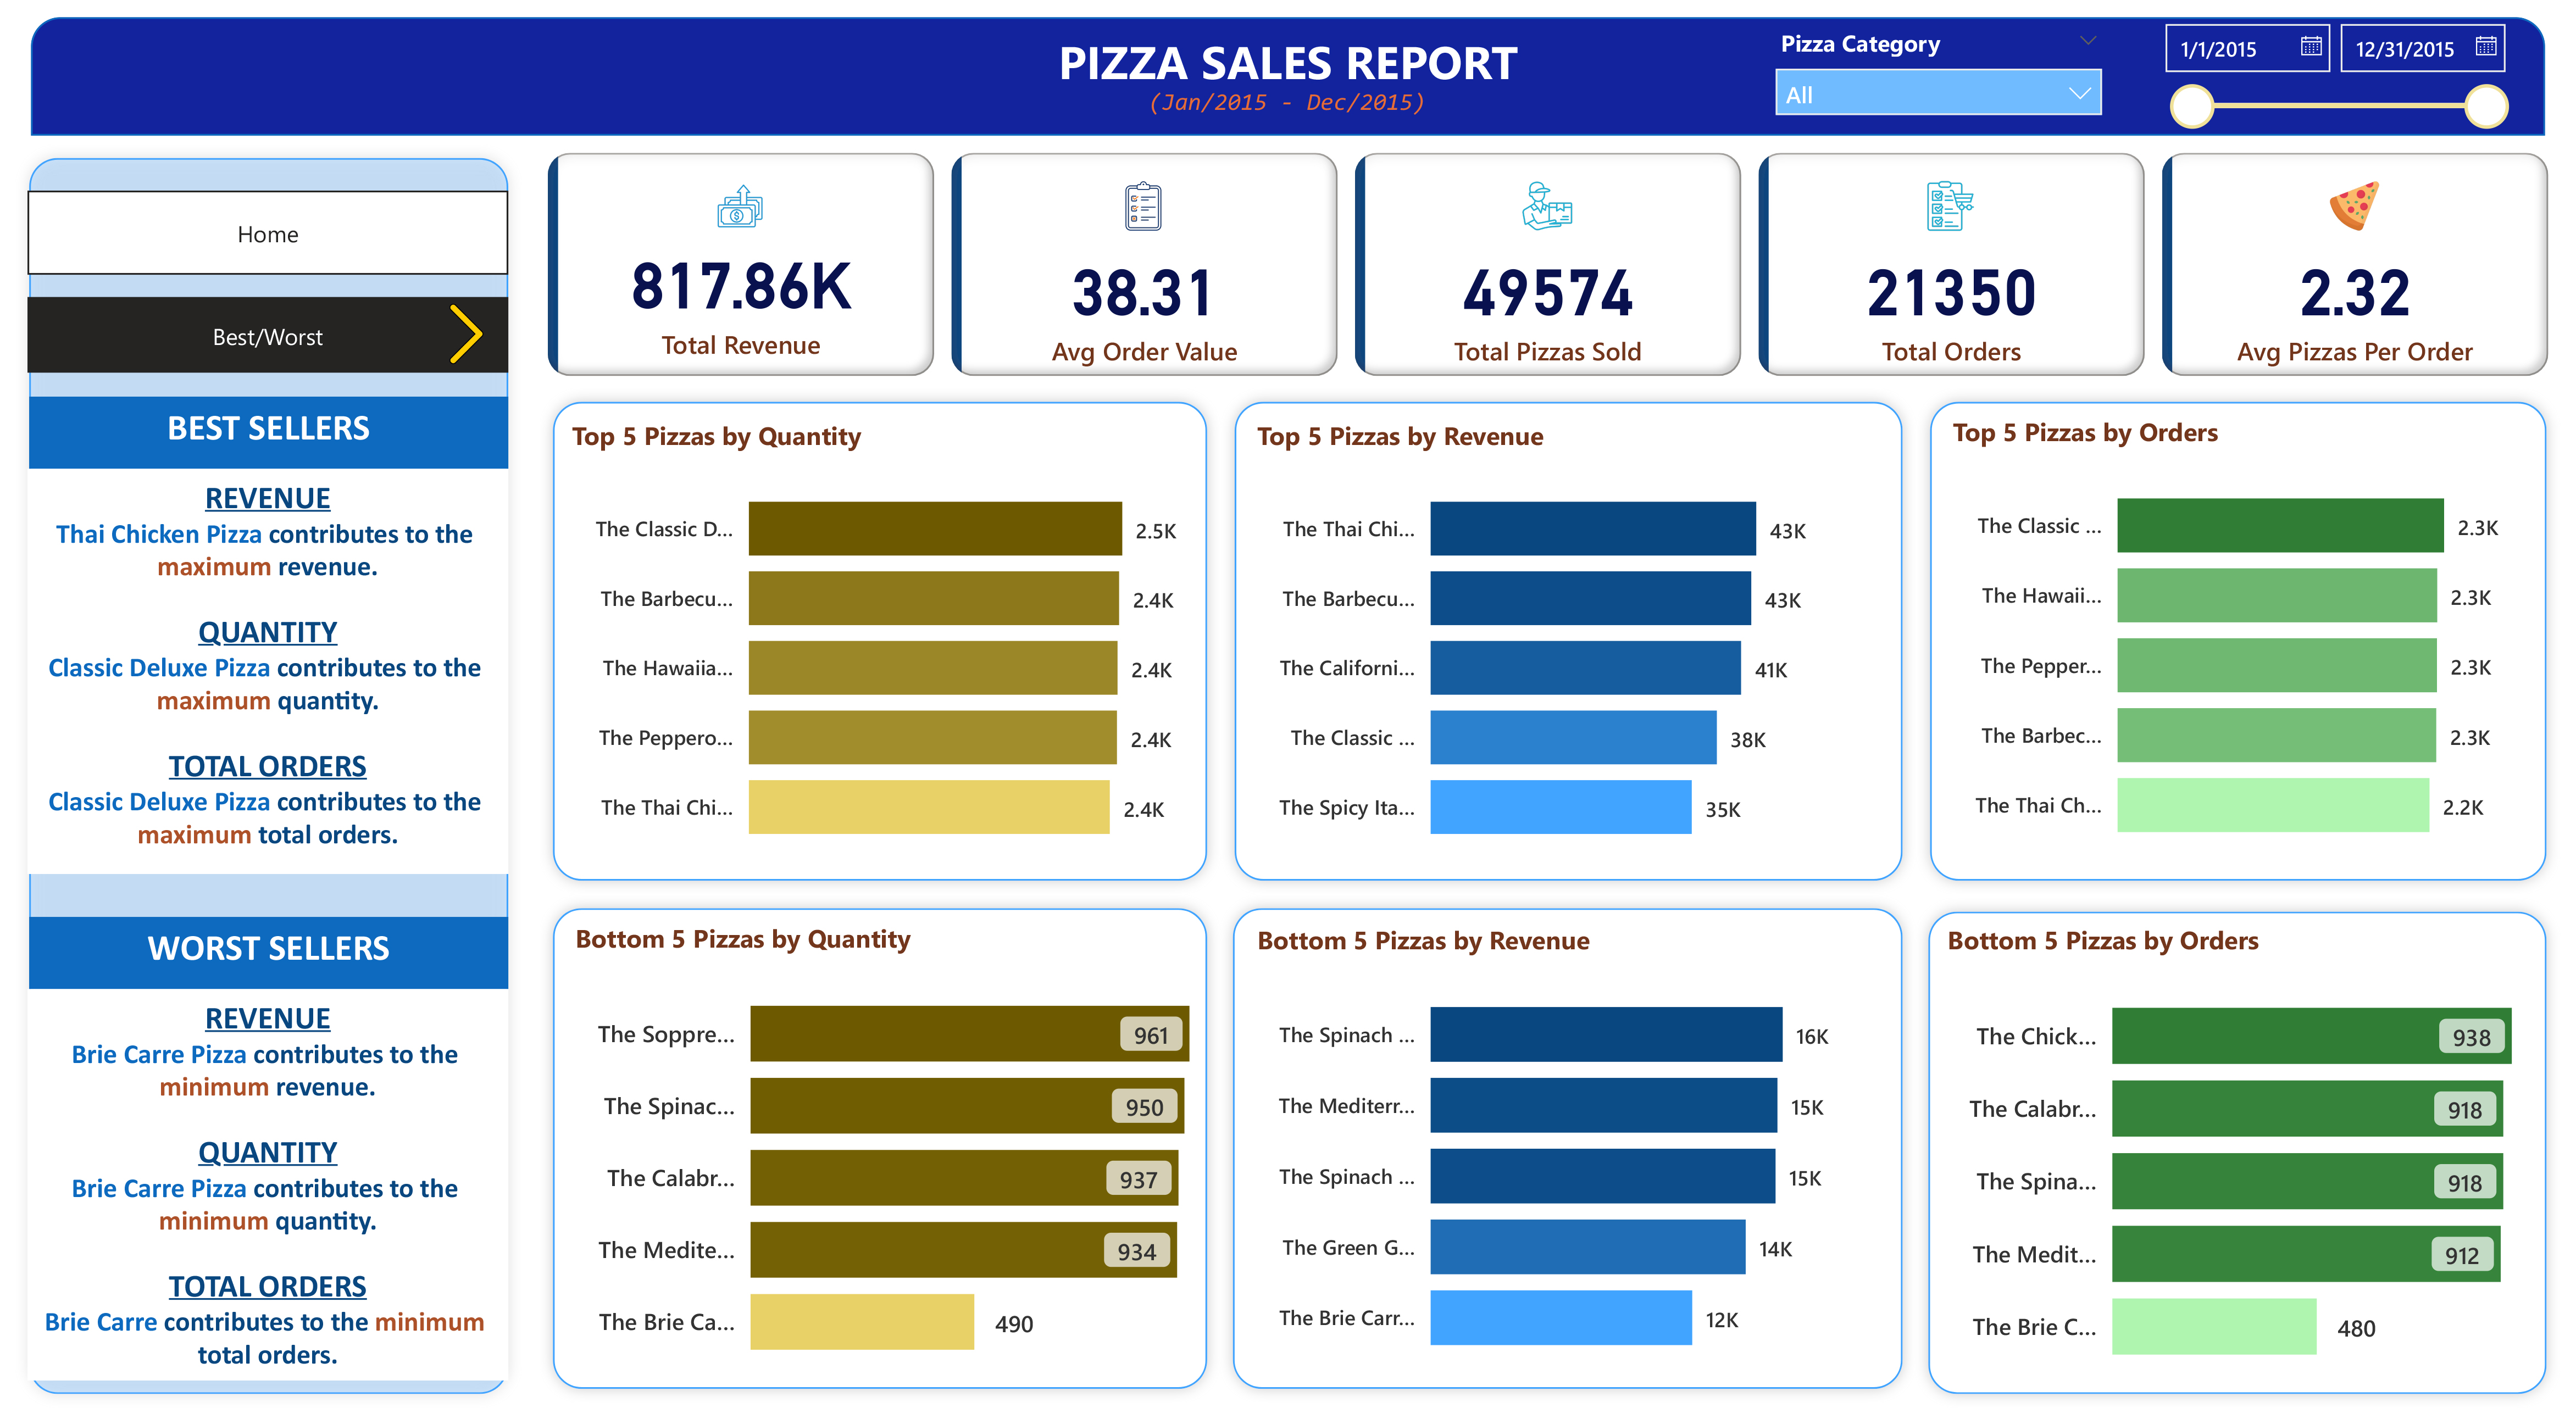

This screenshot's page, from the dashboard's own definition file:
{"tool":"powerbi","page":{"name":"Best/Worst","canvas":[1500,820],"ordinal":1},"visuals":[{"type":"shape","box":[8.6,84.3,295.7,735.7],"z":0},{"type":"cardVisual","fields":{"Data":["pizza_sales.Total Revenue","pizza_sales.Avg order value","pizza_sales.Total Pizzas Sold","pizza_sales.Total orders","pizza_sales.Avg Pizzas Per Order"]},"box":[313.8,83.8,1177.5,140],"z":1000},{"type":"shape","box":[17.8,10,1464.4,68.9],"z":2000},{"type":"textbox","box":[18,12,1464,64],"z":3000},{"type":"textbox","box":[17.5,45,1463.8,35],"z":4000},{"type":"shape","box":[314.3,225.7,397.1,295.7],"z":5000},{"type":"textbox","box":[17.1,231.4,278.6,41.4],"z":6000},{"type":"textbox","box":[15.7,272.9,280,235.7],"z":7000},{"type":"textbox","box":[17.1,534.3,278.6,41.4],"z":8000},{"type":"textbox","box":[15.7,575.7,280,228.6],"z":9000},{"type":"slicer","fields":{"Values":["pizza_sales.pizza_category"]},"box":[1024.4,11.1,210,65.6],"z":10000},{"type":"slicer","fields":{"Values":["pizza_sales.order_date"]},"box":[1247.8,4.4,221.1,74.4],"z":11000},{"type":"shape","box":[711.4,225.7,404.3,295.7],"z":12000},{"type":"shape","box":[1115.7,225.7,375.7,295.7],"z":13000},{"type":"barChart","title":"Top 5 Pizzas by Revenue","fields":{"Category":["pizza_sales.pizza_name"],"Y":["pizza_sales.Total Revenue"]},"box":[726.5,242.7,373.9,265.7],"z":14000},{"type":"shape","box":[710,521.4,405.7,295.7],"z":14500},{"type":"shape","box":[314.3,521.4,397.1,295.7],"z":15000},{"type":"barChart","title":"Bottom 5 Pizzas by Revenue","fields":{"Category":["pizza_sales.pizza_name"],"Y":["pizza_sales.Total Revenue"]},"box":[726.9,537.2,374.4,269.2],"z":16000},{"type":"shape","box":[1115.2,523.2,375.6,296.8],"z":18000},{"type":"barChart","title":"Top 5 Pizzas by Quantity","fields":{"Category":["pizza_sales.pizza_name"],"Y":["pizza_sales.Total Pizzas Sold"]},"box":[328,242.7,378.8,265.7],"z":19000},{"type":"barChart","title":"Bottom 5 Pizzas by Quantity","fields":{"Category":["pizza_sales.pizza_name"],"Y":["pizza_sales.Total Pizzas Sold"]},"box":[329.6,536.3,378.8,272.2],"z":20000},{"type":"barChart","title":"Top 5 Pizzas by Orders","fields":{"Category":["pizza_sales.pizza_name"],"Y":["pizza_sales.Total orders"]},"box":[1131.6,241.1,351,265.7],"z":21000},{"type":"barChart","title":"Bottom 5 Pizzas by Orders","fields":{"Category":["pizza_sales.pizza_name"],"Y":["pizza_sales.Total orders"]},"box":[1129.5,537.2,353.8,274.4],"z":22000},{"type":"pageNavigator","box":[15.7,111.4,280,48.6],"z":23000},{"type":"pageNavigator","box":[15.7,172.9,280,44.3],"z":24000},{"type":"image","box":[248.6,170,45.7,48.6],"z":25000}]}

Visuals, with their boxes in screenshot pixels (x1, y1, x2, y2), scaled from the page's 1500x820 canvas onto the 2576x1408 screenshot:
shape: x1=15 y1=144 x2=523 y2=1407
cardVisual - pizza_sales.Total Revenue x pizza_sales.Avg order value: x1=539 y1=144 x2=2561 y2=385
shape: x1=31 y1=17 x2=2545 y2=136
textbox: x1=31 y1=21 x2=2545 y2=131
textbox: x1=30 y1=77 x2=2544 y2=137
shape: x1=540 y1=387 x2=1222 y2=895
textbox: x1=29 y1=397 x2=508 y2=469
textbox: x1=27 y1=469 x2=508 y2=873
textbox: x1=29 y1=917 x2=508 y2=988
textbox: x1=27 y1=988 x2=508 y2=1381
slicer - pizza_sales.pizza_category: x1=1759 y1=19 x2=2120 y2=132
slicer - pizza_sales.order_date: x1=2143 y1=8 x2=2523 y2=135
shape: x1=1222 y1=387 x2=1916 y2=895
shape: x1=1916 y1=387 x2=2561 y2=895
"Top 5 Pizzas by Revenue" barChart: x1=1248 y1=417 x2=1890 y2=873
shape: x1=1219 y1=895 x2=1916 y2=1403
shape: x1=540 y1=895 x2=1222 y2=1403
"Bottom 5 Pizzas by Revenue" barChart: x1=1248 y1=922 x2=1891 y2=1384
shape: x1=1915 y1=898 x2=2560 y2=1407
"Top 5 Pizzas by Quantity" barChart: x1=563 y1=417 x2=1214 y2=873
"Bottom 5 Pizzas by Quantity" barChart: x1=566 y1=921 x2=1217 y2=1388
"Top 5 Pizzas by Orders" barChart: x1=1944 y1=414 x2=2546 y2=870
"Bottom 5 Pizzas by Orders" barChart: x1=1940 y1=922 x2=2547 y2=1394
pageNavigator: x1=27 y1=191 x2=508 y2=275
pageNavigator: x1=27 y1=297 x2=508 y2=373
image: x1=427 y1=292 x2=506 y2=375
